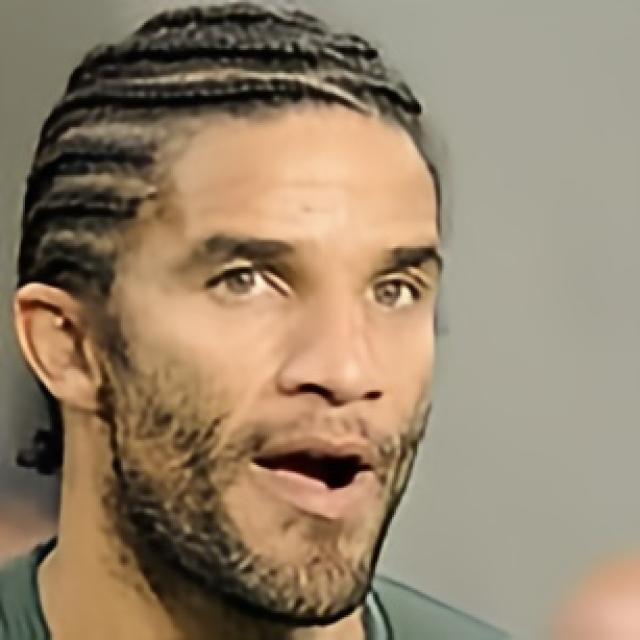surprise: (87, 99, 445, 619)
